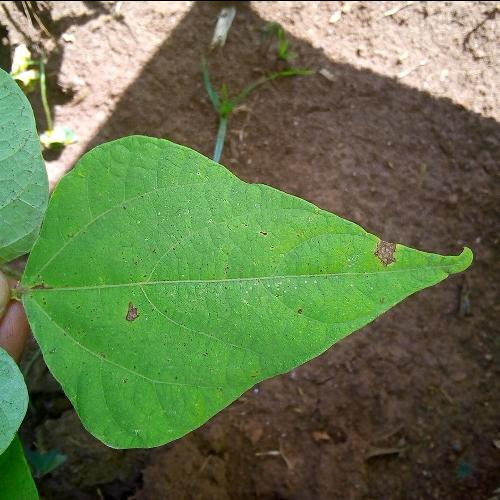hawar: (362, 228, 401, 272), (120, 294, 139, 324)
sehat: (154, 182, 264, 350), (74, 347, 157, 434), (72, 162, 134, 266)
